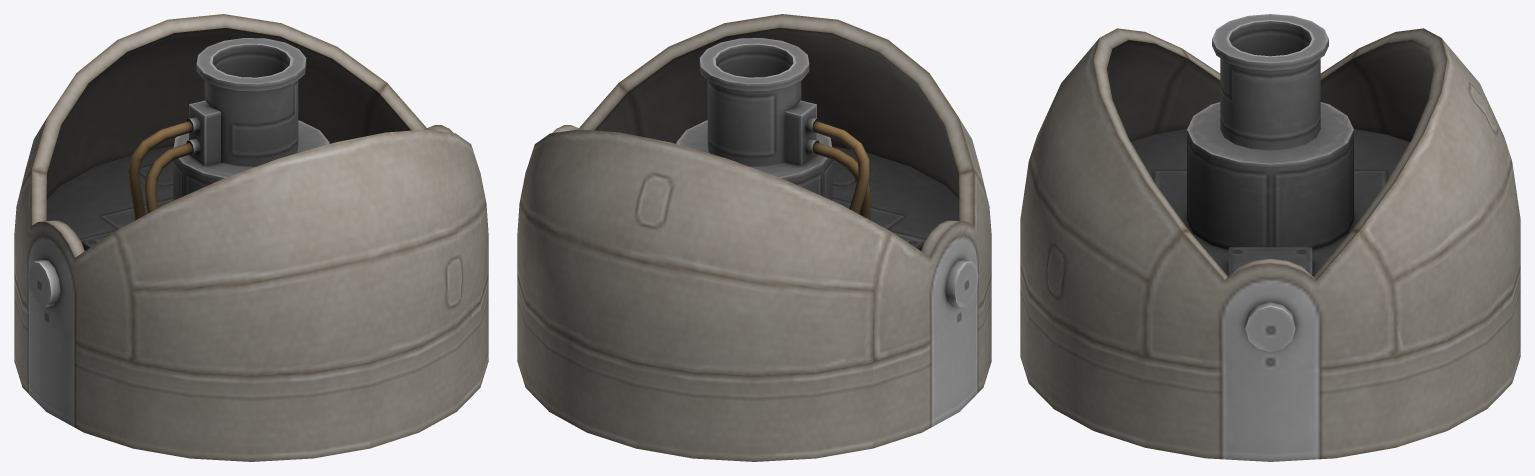
File: kristall telescope.obj
3 renders of one model, left to right at view 1: azimuth 30°, elevation 25°; view 2: azimuth 150°, elevation 25°; view 3: azimuth 270°, elevation 25°, orthographic. The views are drawn at different scales.
Visible parts, largest first — view 1: 1; view 2: 1; view 3: 1.
Part boxes in pixels (<box>): 1: <box>14,14,488,461</box>; 1: <box>517,14,991,461</box>; 1: <box>1020,14,1520,461</box>.
Bounding box in the file's own units: 0.775 × 0.525 × 0.75.
Materials: 1 (1 with a texture image).
